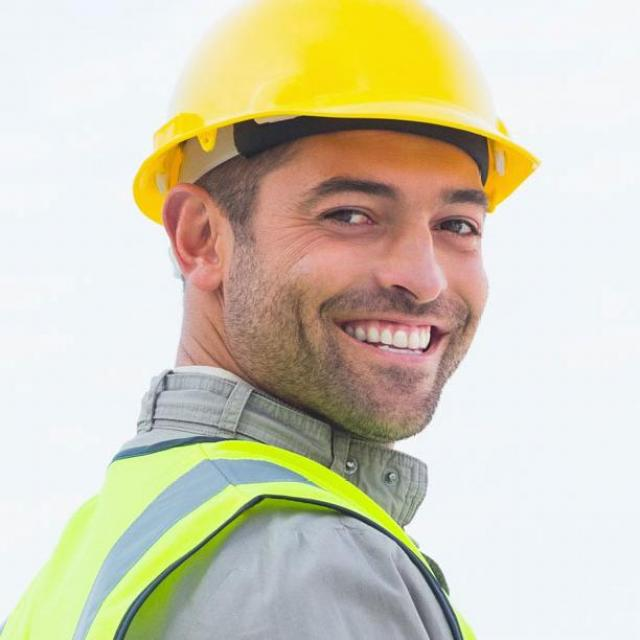Reflective-Jacket: (0, 443, 497, 635)
Safety-Helmet: (132, 4, 546, 216)
